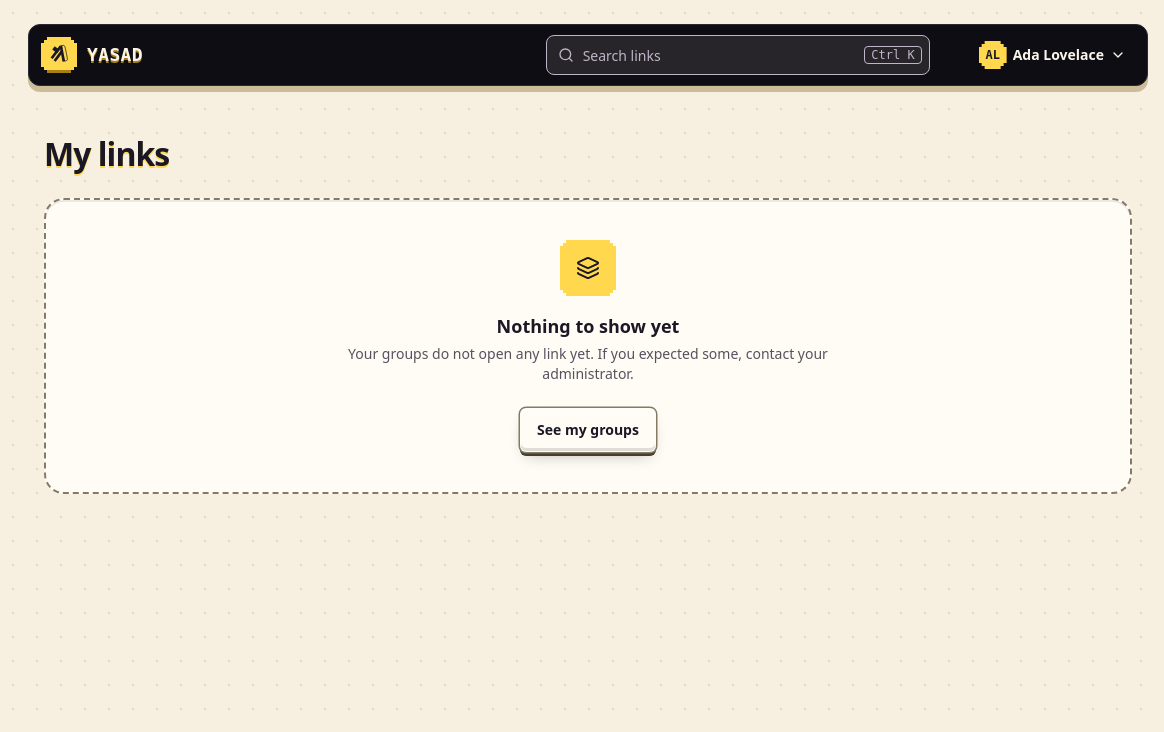
Test case: App › navigation › shows the password change when the API says an admin reset the password since the page loaded
Check: the heading "My links" is shown, box [44,134,169,174]
Step 1. Click the button with aria-label "Account menu for Ada Lovelace" → [1052, 55], box [970,33,1135,77]
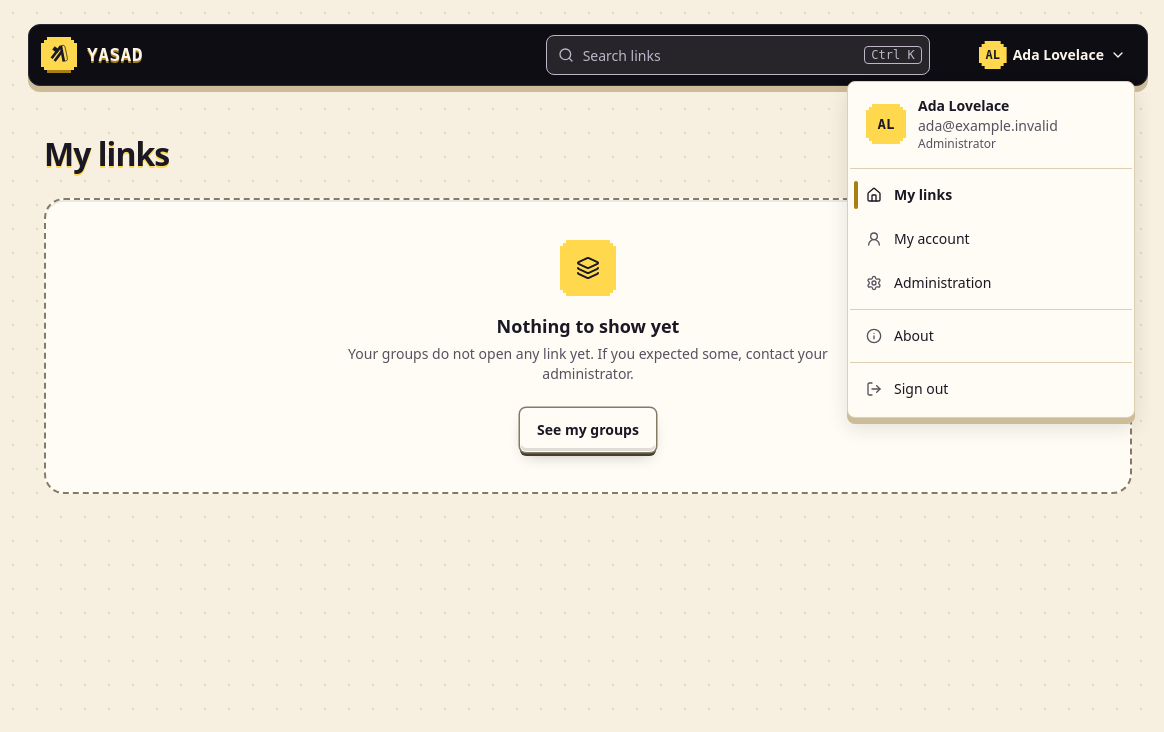
Step 2. Click the menu item "Administration" → [929, 282], box [866,273,991,292]
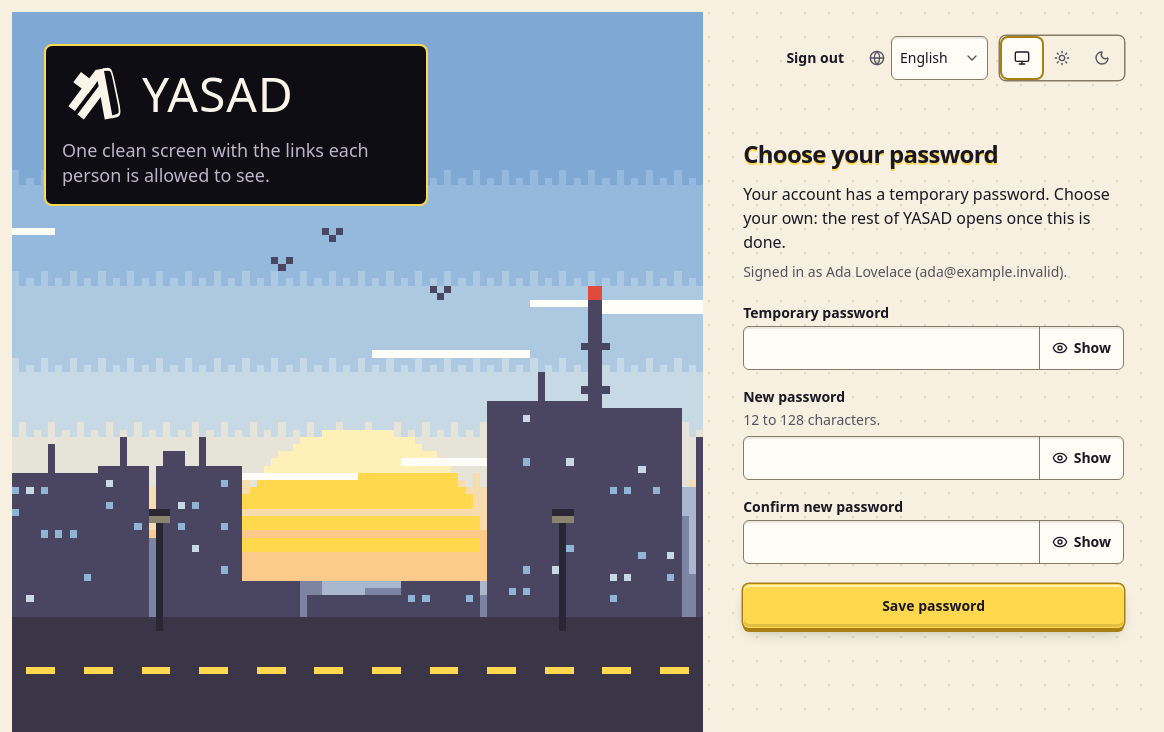
Check: the heading "Choose your password" is shown, box [743,137,998,170]
Check: the button "Account menu" is gone
